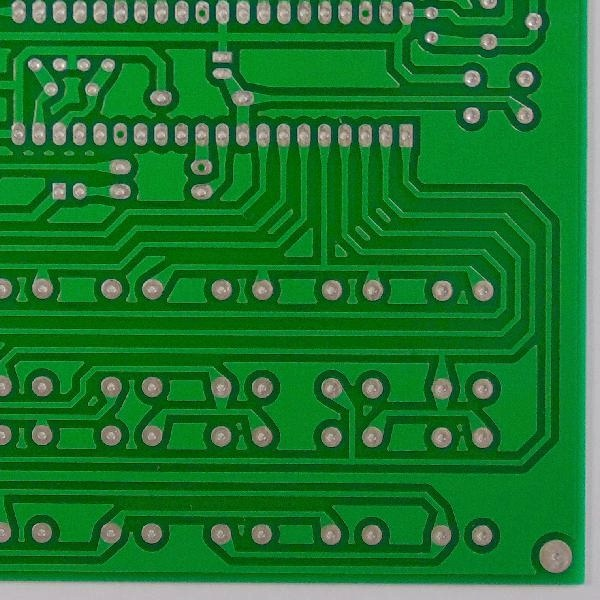missing_hole: (356, 1, 376, 25), (111, 125, 129, 145), (192, 159, 211, 177), (194, 3, 211, 23)
